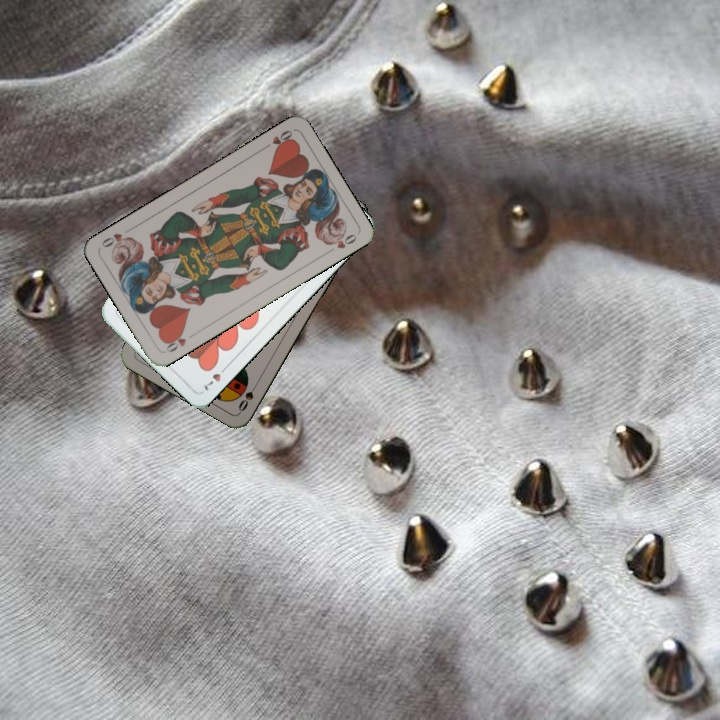H7: (198, 361, 231, 394)
HO: (259, 126, 296, 153), (161, 327, 189, 355)
SO: (234, 377, 261, 414)
